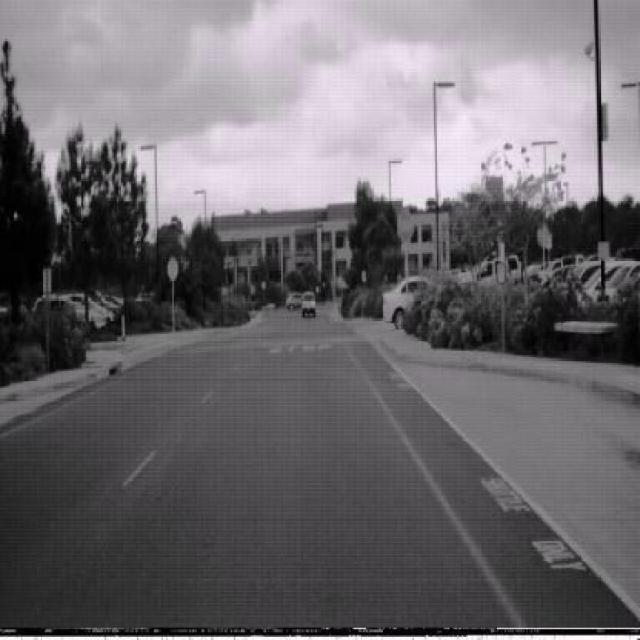stop: (396, 206, 414, 242)
